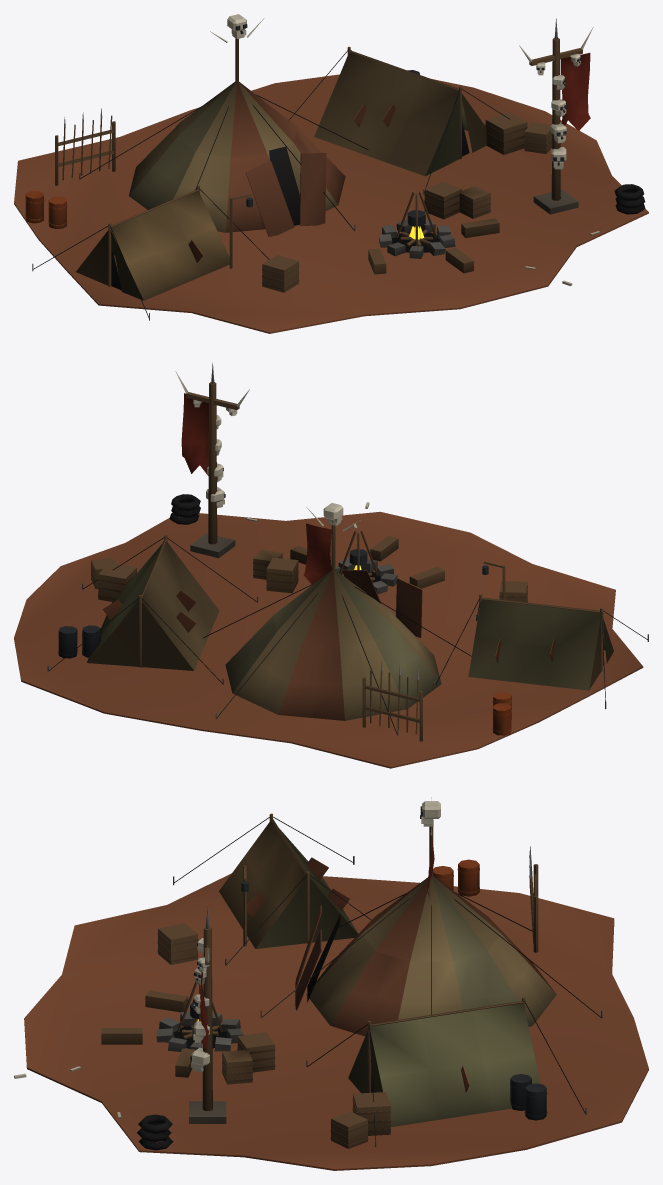
File: raider_camp_tent.glb
3 renders of one model, top to bottom at view 1: azimuth 30°, elevation 25°; view 2: azimuth 150°, elevation 25°; view 3: azimuth 270°, elevation 25°, orthographic. The views are drawn at different scales.
Visible parts, largest first — view 1: dirt_red, canvas, wood, metal_dark, rubber, bone, rock_grey, rust, concrete_dark; view 2: dirt_red, canvas, wood, rubber, metal_dark, bone, rust, rock_grey, concrete_dark; view 3: dirt_red, canvas, wood, rubber, metal_dark, bone, rock_grey, rust, concrete_dark.
Part boxes in pixels (left/top/right/bottom): dirt_red: left=14, top=74, right=648, bottom=333; canvas: left=76, top=52, right=590, bottom=300; wood: left=55, top=38, right=582, bottom=292; metal_dark: left=111, top=24, right=581, bottom=289; rubber: left=33, top=50, right=645, bottom=317; bone: left=210, top=14, right=599, bottom=286; rock_grey: left=379, top=219, right=455, bottom=258; rust: left=25, top=191, right=67, bottom=228; concrete_dark: left=533, top=189, right=578, bottom=214; dirt_red: left=14, top=511, right=643, bottom=768; canvas: left=86, top=393, right=613, bottom=720; wood: left=91, top=382, right=603, bottom=741; rubber: left=49, top=494, right=648, bottom=733; metal_dark: left=58, top=468, right=603, bottom=664; bone: left=175, top=371, right=369, bottom=531; rust: left=492, top=692, right=511, bottom=735; rock_grey: left=331, top=557, right=397, bottom=594; concrete_dark: left=190, top=533, right=235, bottom=557; dirt_red: left=24, top=873, right=648, bottom=1170; canvas: left=200, top=821, right=556, bottom=1126; wood: left=101, top=813, right=538, bottom=1148; rubber: left=137, top=816, right=600, bottom=1150; metal_dark: left=173, top=806, right=547, bottom=1120; bone: left=14, top=797, right=440, bottom=1118; rock_grey: left=156, top=1012, right=243, bottom=1051; rust: left=433, top=859, right=479, bottom=896; concrete_dark: left=189, top=1101, right=226, bottom=1123.
Size of what is drawn, in the model's own units: 19.45 by 6.35 by 17.02.
